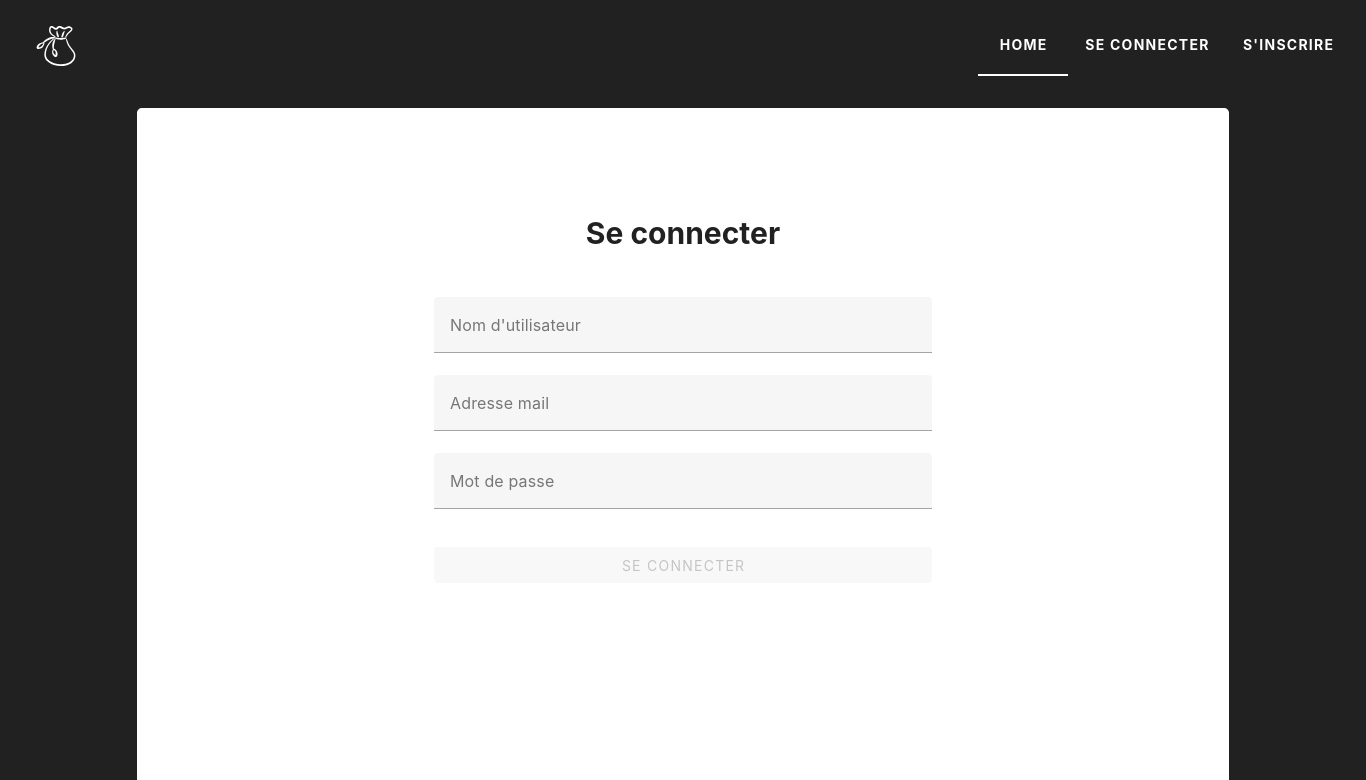
Test: Prévisionnel App - Page de connexion - LoginView › displays an error if login fails
Type "Randomuser" into the element with test id "username" at (683, 336), box x1=434 y1=297 x2=931 y2=375
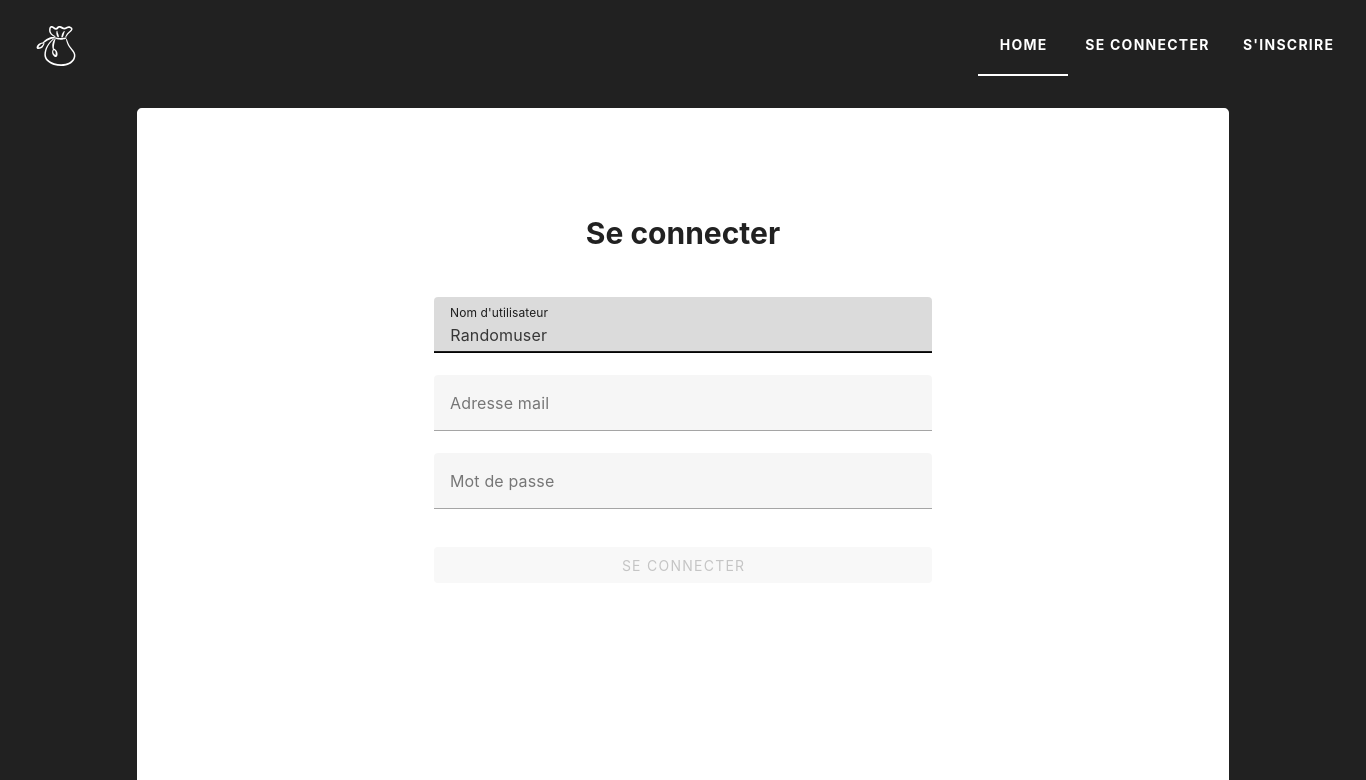
Type "random@gmail.com" into the element with test id "email" at (683, 414), box x1=434 y1=375 x2=931 y2=453
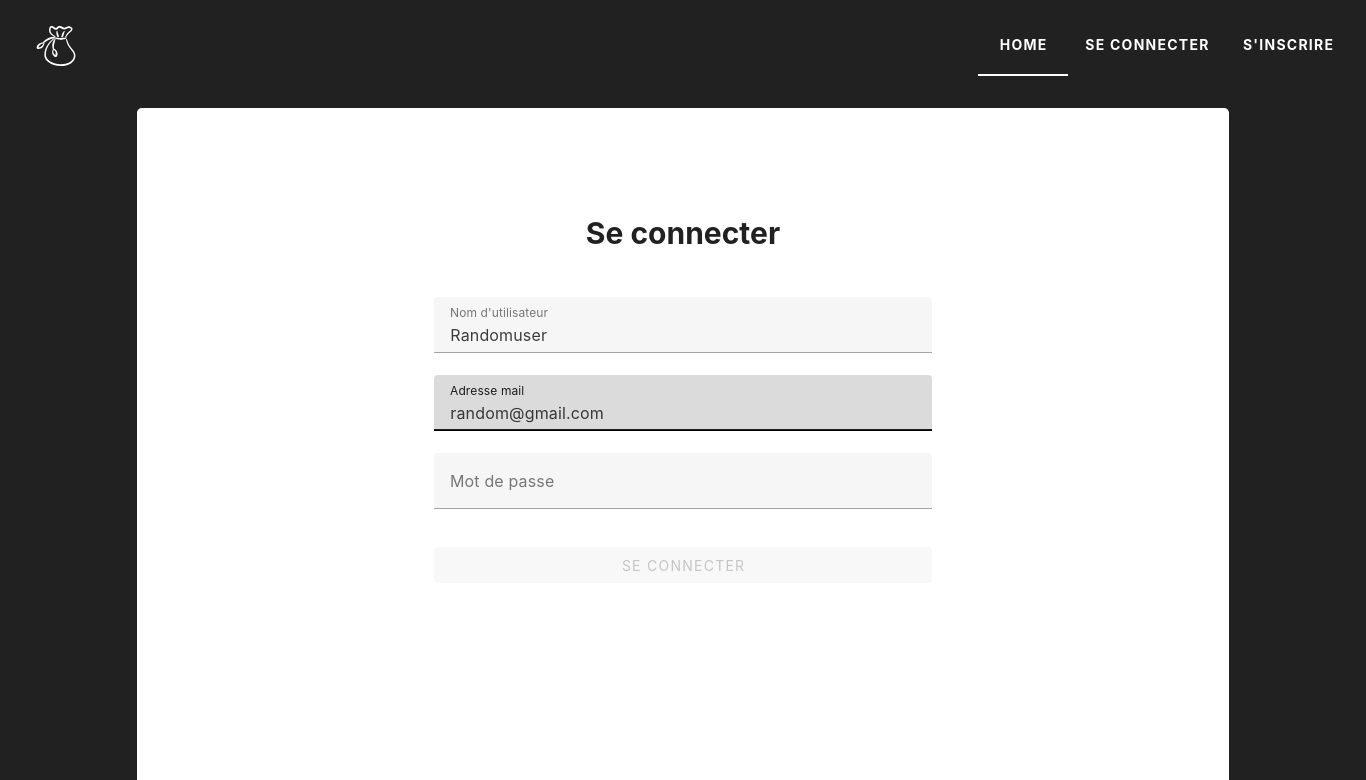
Type "wrongpass" into the element with test id "password" at (683, 492), box x1=434 y1=453 x2=931 y2=531
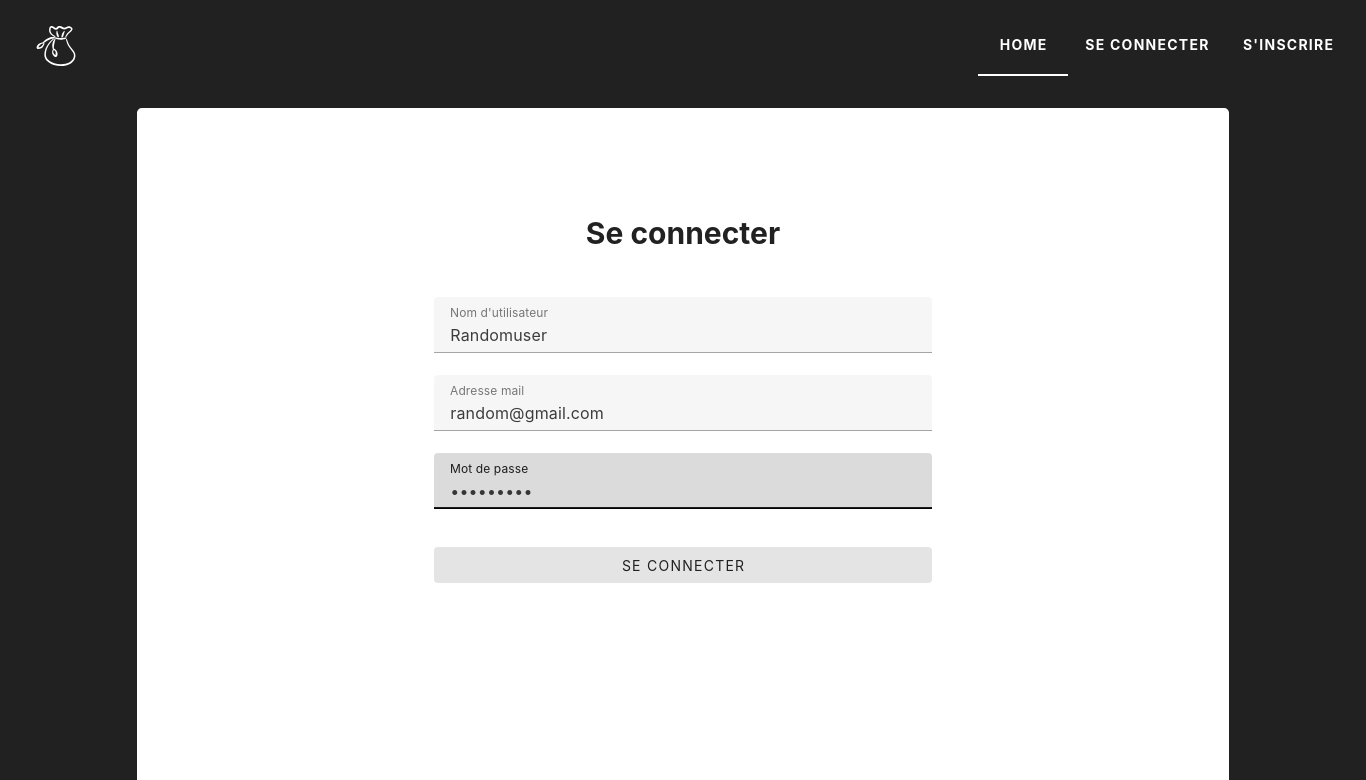
Click the submit button at (683, 565), box x1=434 y1=547 x2=931 y2=583
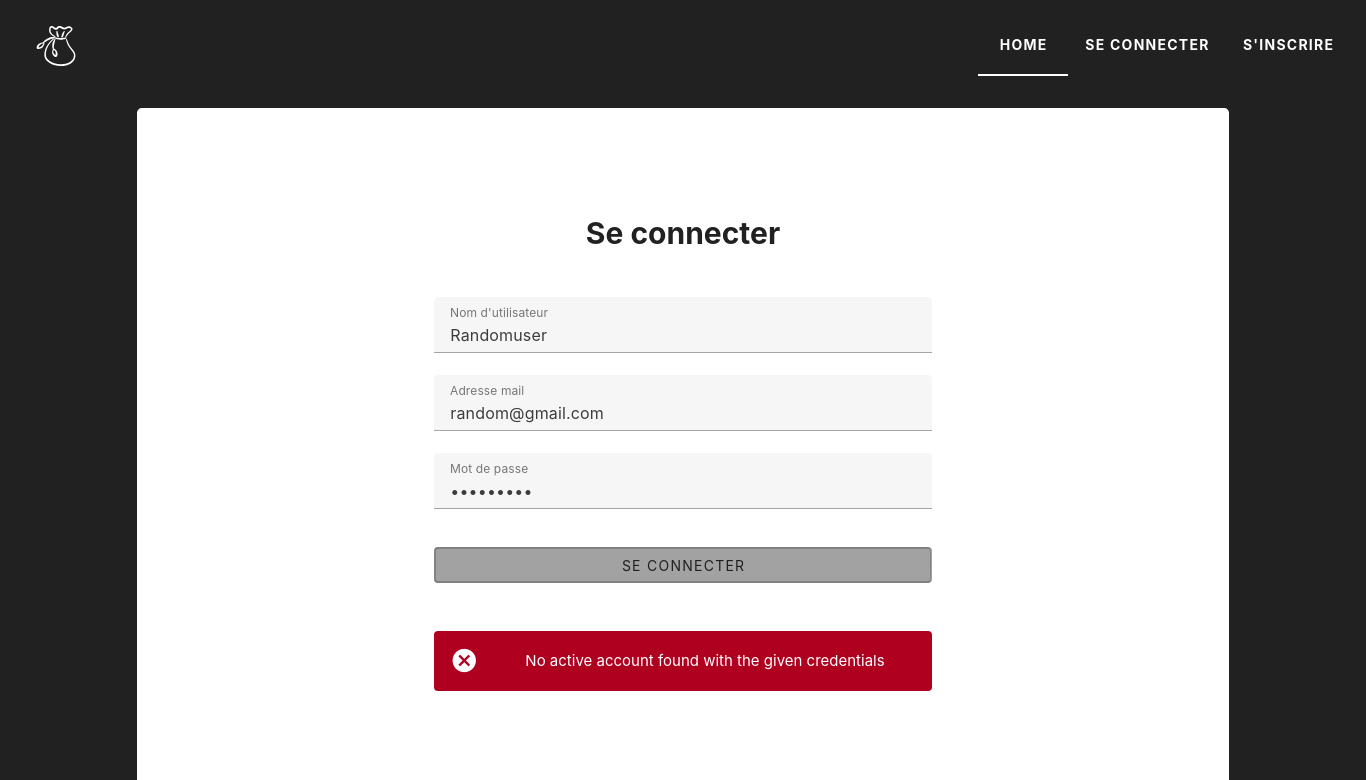
Now the text "No active account found with the given credentials" is shown, box x1=494 y1=647 x2=916 y2=675
